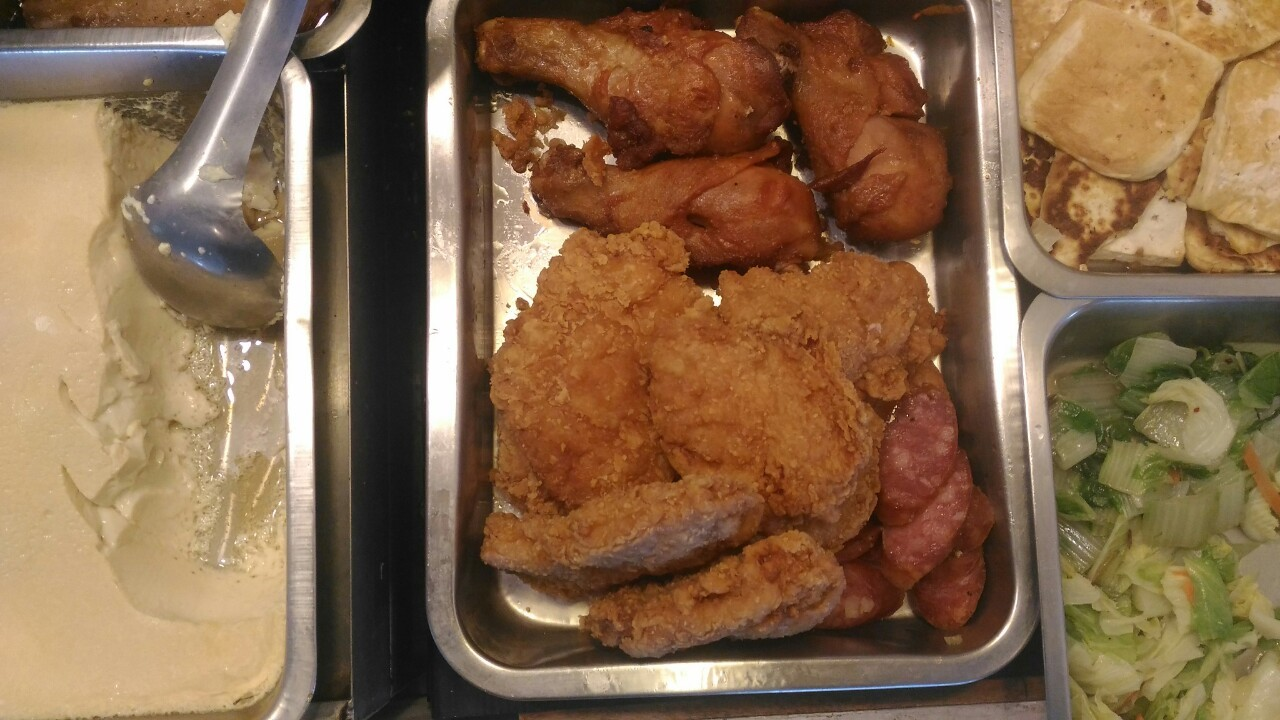chinese_sausage: (858, 389, 990, 632)
fried_chicken: (497, 233, 866, 525)
